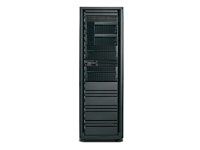ibm-server: (76, 4, 127, 145)
